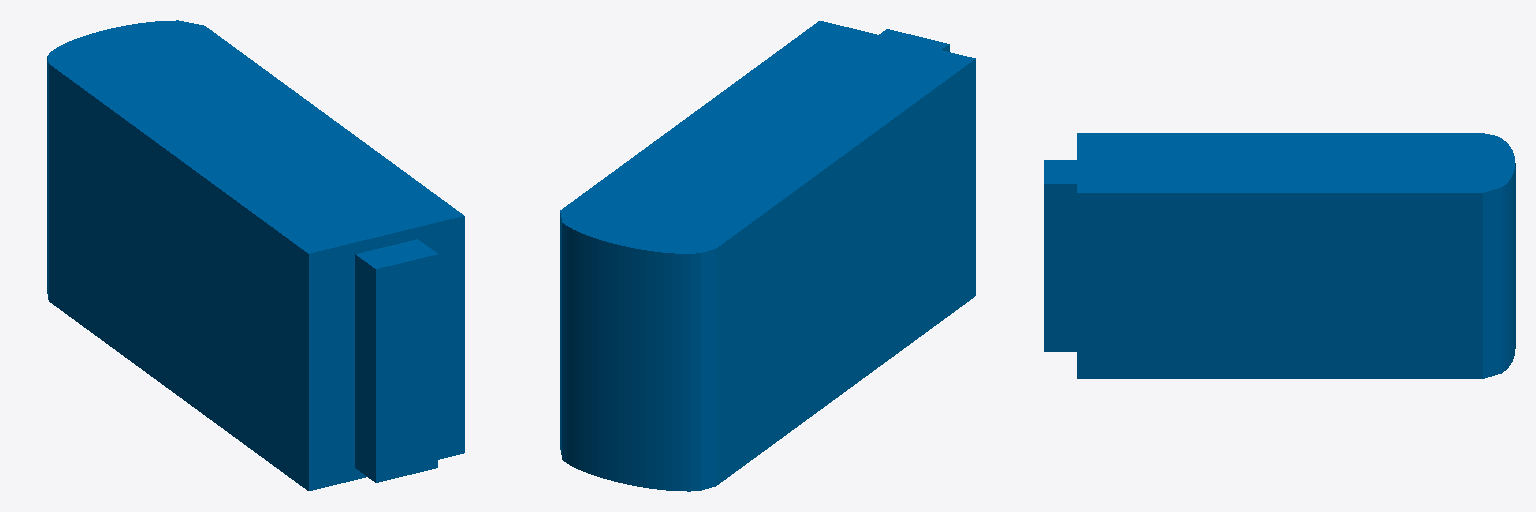
robot.urdf — 3v3_42.5.32.5.25.0_47.5.27.5.25.0_1.1_54:
<?xml version="1.0" ?>
<robot name="3v3_42.5.32.5.25.0_47.5.27.5.25.0_1.1_54">

    <link name="palm">
        <visual>
            <origin rpy="0 0 0" xyz="0 0 0"/>
            <geometry>
                <mesh filename="obj_files/palm.obj" scale="1 1 1"/>
            </geometry>
        </visual>
        <collision>
            <geometry>
                <mesh filename="obj_files/palm_collision.obj" scale="1 1 1"/>
            </geometry>
        </collision>
    </link>

    <link name="finger0_segment0">
        <visual>
            <origin rpy="0 0 0" xyz="0 0 0"/>
            <geometry>
                <mesh filename="obj_files/finger0_segment0.obj" scale="1 1 1"/>
            </geometry>
        </visual>
        <collision>
            <geometry>
                <mesh filename="obj_files/finger0_segment0_collision.obj" scale="1 1 1"/>
            </geometry>
        </collision>
    </link>

    <joint name="finger0_segment0_joint" type="revolute">
        <parent link="palm"/>
        <child link="finger0_segment0"/>
        <origin rpy="0 0 0" xyz="0.027 0 0.0"/>
        <axis xyz="0 0 1"/>
        <limit effort="1000.0" lower="-3.14" upper="3.14" velocity="0.5"/>
    </joint>

    <link name="finger0_segment1">
        <visual>
            <origin rpy="0 0 0" xyz="0 0 0"/>
            <geometry>
                <mesh filename="obj_files/finger0_segment1.obj" scale="1 1 1"/>
            </geometry>
        </visual>
        <collision>
            <geometry>
                <mesh filename="obj_files/finger0_segment1_collision.obj" scale="1 1 1"/>
            </geometry>
        </collision>
    </link>

    <joint name="finger0_segment1_joint" type="revolute">
        <parent link="finger0_segment0"/>
        <child link="finger0_segment1"/>
        <origin rpy="0 0 0" xyz="0 0.06119999999999999 0"/>
        <axis xyz="0 0 1"/>
        <limit effort="1000.0" lower="-3.14" upper="3.14" velocity="0.5"/>
    </joint>

    <link name="finger0_segment2">
        <visual>
            <origin rpy="0 0 0" xyz="0 0 0"/>
            <geometry>
                <mesh filename="obj_files/finger0_segment2.obj" scale="1 1 1"/>
            </geometry>
        </visual>
        <collision>
            <geometry>
                <mesh filename="obj_files/finger0_segment2_collision.obj" scale="1 1 1"/>
            </geometry>
        </collision>
    </link>

    <joint name="finger0_segment2_joint" type="revolute">
        <parent link="finger0_segment1"/>
        <child link="finger0_segment2"/>
        <origin rpy="0 0 0" xyz="0 0.0468 0"/>
        <axis xyz="0 0 1"/>
        <limit effort="1000.0" lower="-3.14" upper="3.14" velocity="0.5"/>
    </joint>

    <link name="finger1_segment0">
        <visual>
            <origin rpy="0 0 0" xyz="0 0 0"/>
            <geometry>
                <mesh filename="obj_files/finger1_segment0.obj" scale="1 1 1"/>
            </geometry>
        </visual>
        <collision>
            <geometry>
                <mesh filename="obj_files/finger1_segment0_collision.obj" scale="1 1 1"/>
            </geometry>
        </collision>
    </link>

    <joint name="finger1_segment0_joint" type="revolute">
        <parent link="palm"/>
        <child link="finger1_segment0"/>
        <origin rpy="0 0 0" xyz="-0.027 0 3.3065463576978537e-18"/>
        <axis xyz="0 0 1"/>
        <limit effort="1000.0" lower="-3.14" upper="3.14" velocity="0.5"/>
    </joint>

    <link name="finger1_segment1">
        <visual>
            <origin rpy="0 0 0" xyz="0 0 0"/>
            <geometry>
                <mesh filename="obj_files/finger1_segment1.obj" scale="1 1 1"/>
            </geometry>
        </visual>
        <collision>
            <geometry>
                <mesh filename="obj_files/finger1_segment1_collision.obj" scale="1 1 1"/>
            </geometry>
        </collision>
    </link>

    <joint name="finger1_segment1_joint" type="revolute">
        <parent link="finger1_segment0"/>
        <child link="finger1_segment1"/>
        <origin rpy="0 0 0" xyz="0 0.0684 0"/>
        <axis xyz="0 0 1"/>
        <limit effort="1000.0" lower="-3.14" upper="3.14" velocity="0.5"/>
    </joint>

    <link name="finger1_segment2">
        <visual>
            <origin rpy="0 0 0" xyz="0 0 0"/>
            <geometry>
                <mesh filename="obj_files/finger1_segment2.obj" scale="1 1 1"/>
            </geometry>
        </visual>
        <collision>
            <geometry>
                <mesh filename="obj_files/finger1_segment2_collision.obj" scale="1 1 1"/>
            </geometry>
        </collision>
    </link>

    <joint name="finger1_segment2_joint" type="revolute">
        <parent link="finger1_segment1"/>
        <child link="finger1_segment2"/>
        <origin rpy="0 0 0" xyz="0 0.0396 0"/>
        <axis xyz="0 0 1"/>
        <limit effort="1000.0" lower="-3.14" upper="3.14" velocity="0.5"/>
    </joint>

</robot>

--- Render facts (derived) ---
3 views of the same robot in one strip: view 1: azimuth 30°, elevation 25°; view 2: azimuth 150°, elevation 25°; view 3: azimuth 270°, elevation 25° (orthographic).
Robot: 3v3_42.5.32.5.25.0_47.5.27.5.25.0_1.1_54 — 7 links, 6 joints (6 revolute); root link palm; default pose: every joint at zero.
Links seen in each view (by area): view 1: finger1_segment0; view 2: finger1_segment0; view 3: finger1_segment0.
Boxes of the visible links, x1,y1,x2,y2 form: finger1_segment0: (47, 20, 464, 490); finger1_segment0: (560, 21, 975, 491); finger1_segment0: (1044, 133, 1515, 378).
Size in the robot's own frame: 0.022 by 0.0734 by 0.032 metres.
1 mesh visuals loaded from 7 distinct referenced files (1 OBJ); not drawn: 6 (reference not matched to a file when rendering).